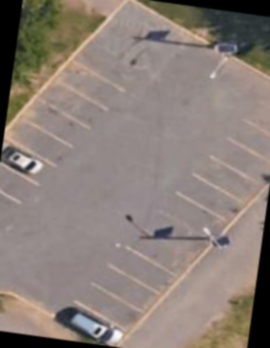parkingspot: (47, 79, 270, 348), (0, 55, 132, 228)
